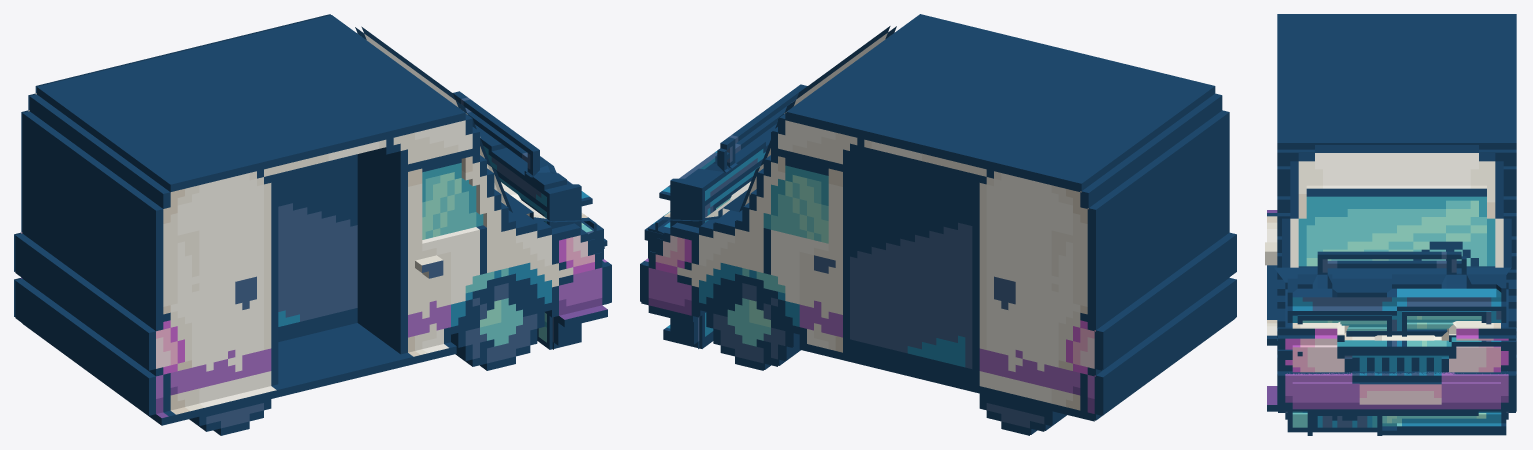
Rendered from extrude_export2.fbx.
3 renders of one model, left to right at view 1: azimuth 30°, elevation 25°; view 2: azimuth 150°, elevation 25°; view 3: azimuth 270°, elevation 25°, orthographic. The views are drawn at different scales.
Parts seen in each view (by area): view 1: camioneta_lado.png, house_test.png.001, camioneta_front.png, camioneta_lado.png.001; view 2: camioneta_lado.png.001, camioneta_lado.png, house_test.png.001, camioneta_front.png; view 3: camioneta_front.png, camioneta_lado.png, house_test.png.001.
Part boxes in pixels (<box>): camioneta_lado.png: <box>15,15,609,435</box>; house_test.png.001: <box>453,91,607,349</box>; camioneta_front.png: <box>355,26,611,349</box>; camioneta_lado.png.001: <box>14,14,330,316</box>; camioneta_lado.png.001: <box>641,113,1101,435</box>; camioneta_lado.png: <box>642,14,1236,434</box>; house_test.png.001: <box>644,84,807,348</box>; camioneta_front.png: <box>640,26,896,348</box>; camioneta_front.png: <box>1274,145,1515,419</box>; camioneta_lado.png: <box>1265,14,1516,411</box>; house_test.png.001: <box>1278,251,1516,435</box>.
Size of the model in its own units: 3254 by 1764 by 1707.
